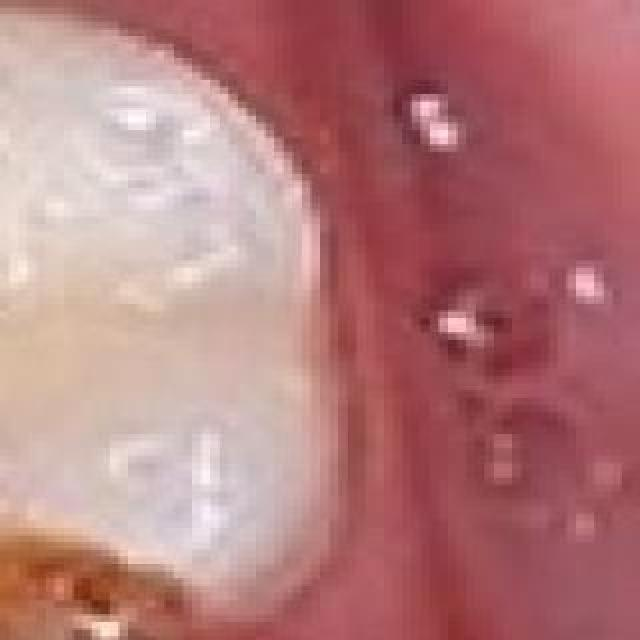cavities: (0, 462, 236, 640)
